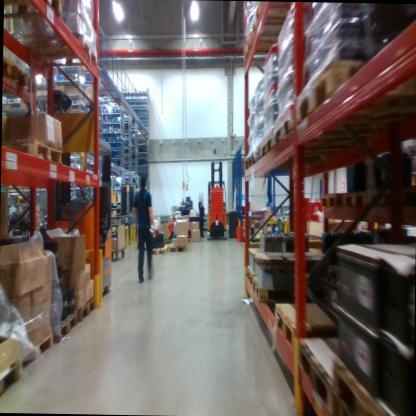forklift: (43, 83, 120, 299), (204, 151, 230, 245)
pallet: (295, 328, 373, 411), (290, 49, 374, 124), (331, 352, 412, 416), (276, 294, 339, 349), (20, 30, 101, 72), (273, 108, 346, 151), (239, 27, 298, 72), (1, 138, 65, 179), (250, 278, 320, 312), (243, 152, 316, 178), (3, 0, 68, 28), (18, 330, 55, 375), (249, 2, 299, 33), (366, 183, 414, 215), (47, 309, 77, 349), (0, 354, 23, 405), (73, 293, 96, 330), (316, 184, 342, 213), (341, 183, 366, 213), (257, 120, 274, 159), (5, 43, 20, 86), (20, 70, 41, 98), (146, 239, 171, 261), (166, 236, 191, 257), (246, 262, 261, 286), (253, 136, 261, 163), (162, 236, 174, 244), (182, 236, 192, 244)
small_load_carrier: (236, 231, 245, 244), (209, 210, 217, 223), (216, 211, 224, 223), (168, 221, 176, 233)
